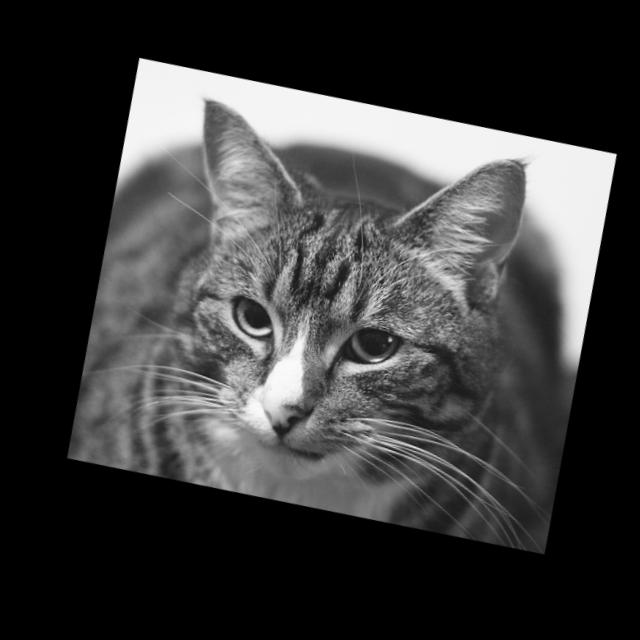animals: (131, 90, 528, 481)
